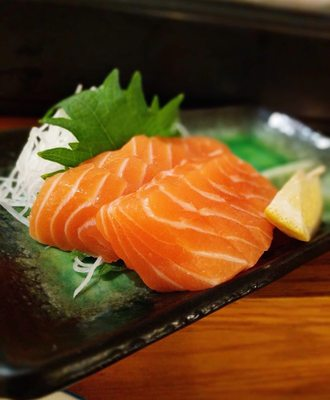taco: (29, 134, 279, 294)
